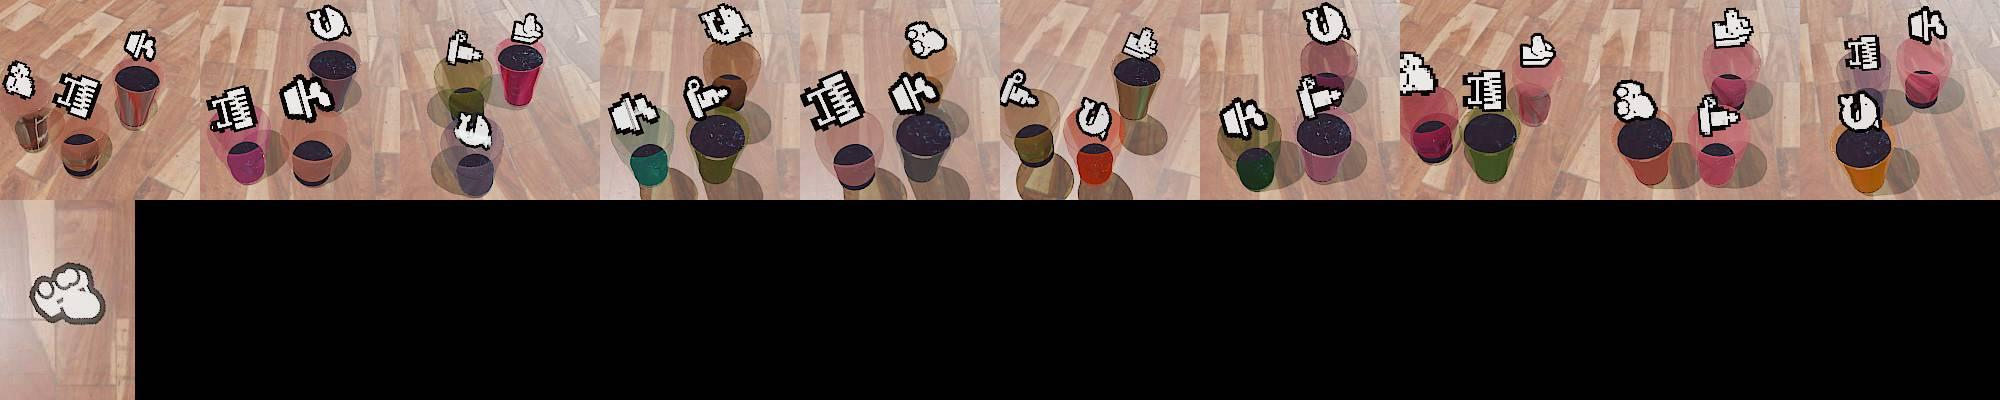icon: (28, 258, 111, 326), (799, 68, 866, 130), (279, 73, 334, 122), (682, 71, 733, 122), (888, 70, 941, 119), (206, 84, 259, 132), (606, 90, 660, 136), (698, 2, 753, 46), (52, 71, 102, 118), (1296, 71, 1344, 119), (1461, 67, 1508, 115), (1219, 94, 1268, 139), (1301, 1, 1350, 46), (1613, 78, 1659, 123), (1696, 92, 1741, 137), (1711, 7, 1755, 50), (1839, 89, 1882, 131), (905, 20, 949, 60), (1399, 50, 1437, 96), (998, 67, 1039, 109), (305, 4, 350, 42), (451, 109, 493, 149), (1074, 96, 1113, 138), (1907, 6, 1947, 45), (445, 28, 485, 66), (1842, 34, 1880, 72), (1519, 31, 1557, 68), (1120, 26, 1159, 62), (2, 60, 35, 100), (123, 29, 157, 62), (511, 12, 544, 45)
